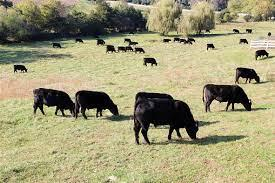cow: (134, 99, 199, 145), (134, 92, 174, 128), (203, 84, 252, 112), (33, 87, 76, 118), (75, 90, 119, 119), (235, 67, 260, 85), (255, 49, 269, 60), (14, 64, 28, 74), (143, 58, 158, 67), (105, 44, 117, 53), (134, 47, 145, 54), (96, 38, 105, 46), (207, 43, 215, 51), (239, 38, 248, 45), (51, 43, 62, 48), (117, 46, 126, 52), (126, 46, 133, 52), (232, 28, 239, 34), (75, 38, 83, 43), (179, 38, 187, 43), (184, 40, 192, 45), (129, 42, 138, 46), (124, 38, 131, 43), (163, 39, 171, 43), (246, 28, 252, 33), (173, 38, 180, 42), (188, 38, 195, 42), (268, 32, 271, 37)
